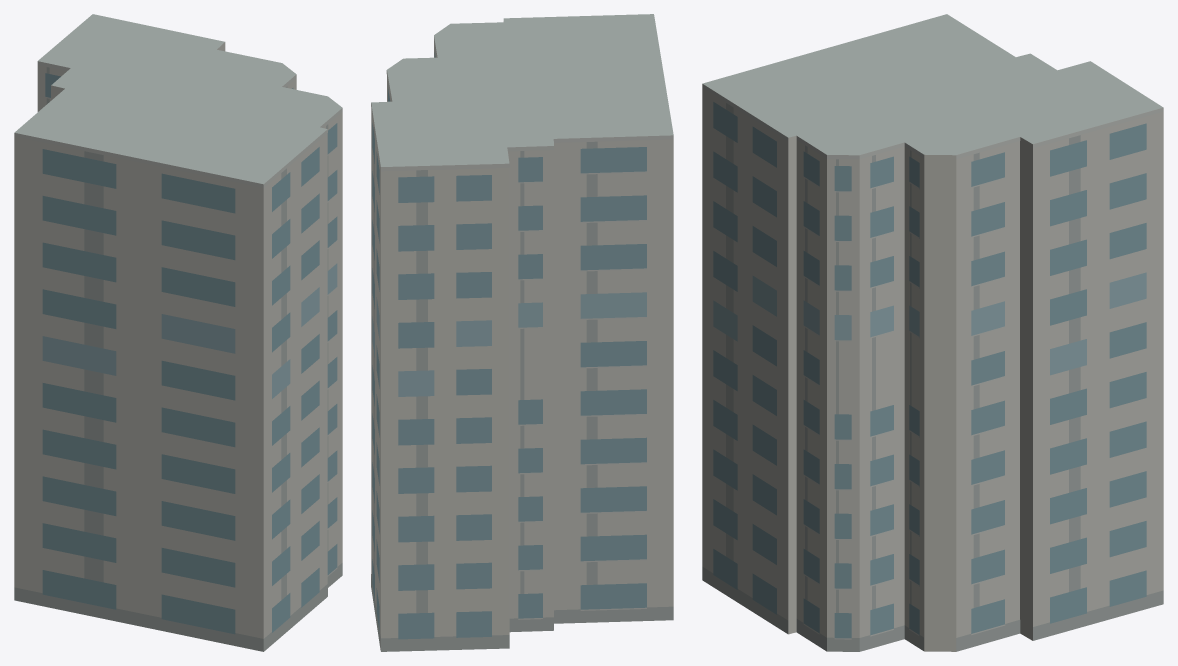
The model's file is survey-upis-32843646.glb.
3 renders of one model, left to right at view 1: azimuth 30°, elevation 25°; view 2: azimuth 150°, elevation 25°; view 3: azimuth 270°, elevation 25°, orthographic. The views are drawn at different scales.
Parts seen in each view (by area): view 1: survey-upis-32843646.tmp; view 2: survey-upis-32843646.tmp; view 3: survey-upis-32843646.tmp.
Part boxes in pixels (x1,y1,x2,y2): survey-upis-32843646.tmp: [14, 14, 342, 651]; survey-upis-32843646.tmp: [371, 14, 673, 651]; survey-upis-32843646.tmp: [702, 14, 1163, 651].
Bounding box in the file's own units: 17.54 × 28.75 × 24.21.
